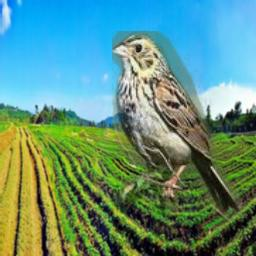Sparrow: (112, 31, 242, 227)
